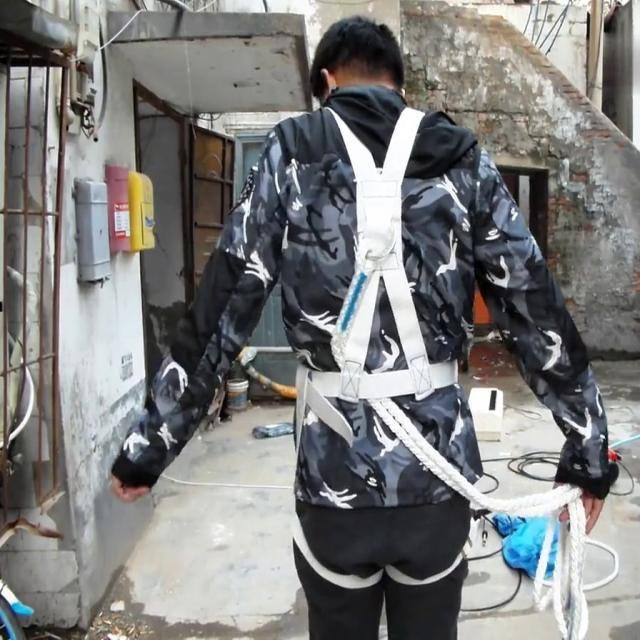Arnes_seguridad: (281, 97, 475, 411)
